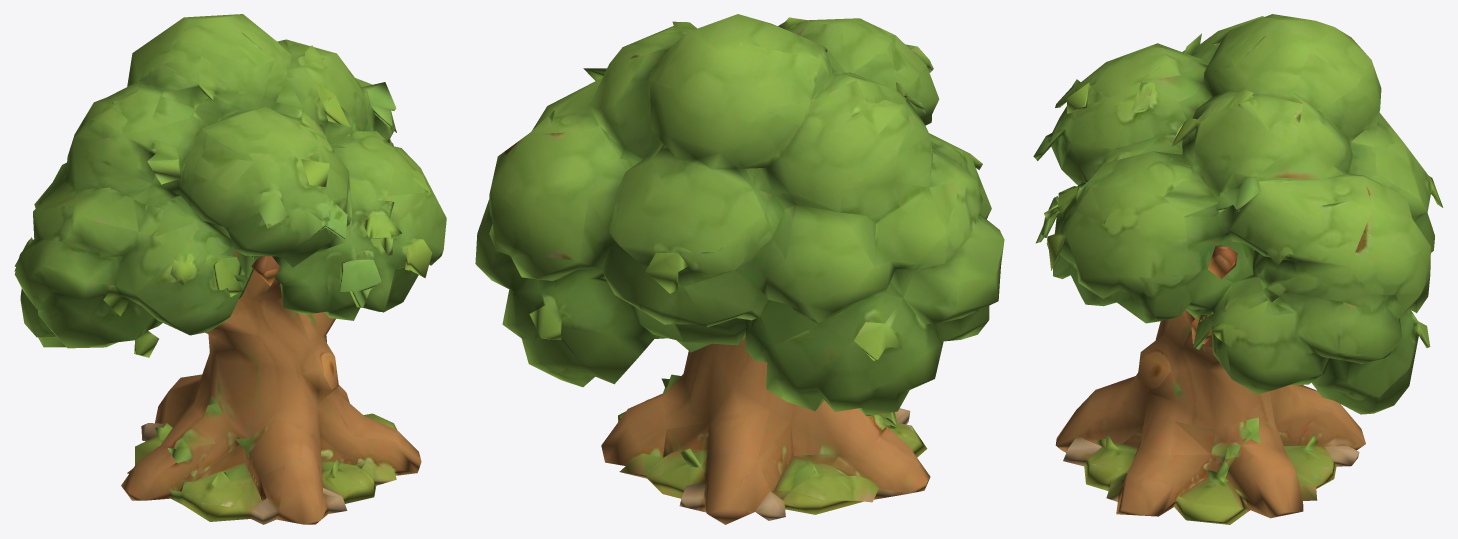
3 views of the same model, side by side, from view 1: azimuth 30°, elevation 25°; view 2: azimuth 150°, elevation 25°; view 3: azimuth 270°, elevation 25° (orthographic). The views are drawn at different scales.
Visible parts, largest first — view 1: tree-oak; view 2: tree-oak; view 3: tree-oak.
Boxes of the visible parts, x1=… form: tree-oak: x1=14, y1=14, x2=446, y2=524; tree-oak: x1=475, y1=14, x2=1004, y2=524; tree-oak: x1=1033, y1=14, x2=1443, y2=524.
Size of the model in its own units: 6.15 by 6.01 by 5.1.
1 material, 1 textured.
